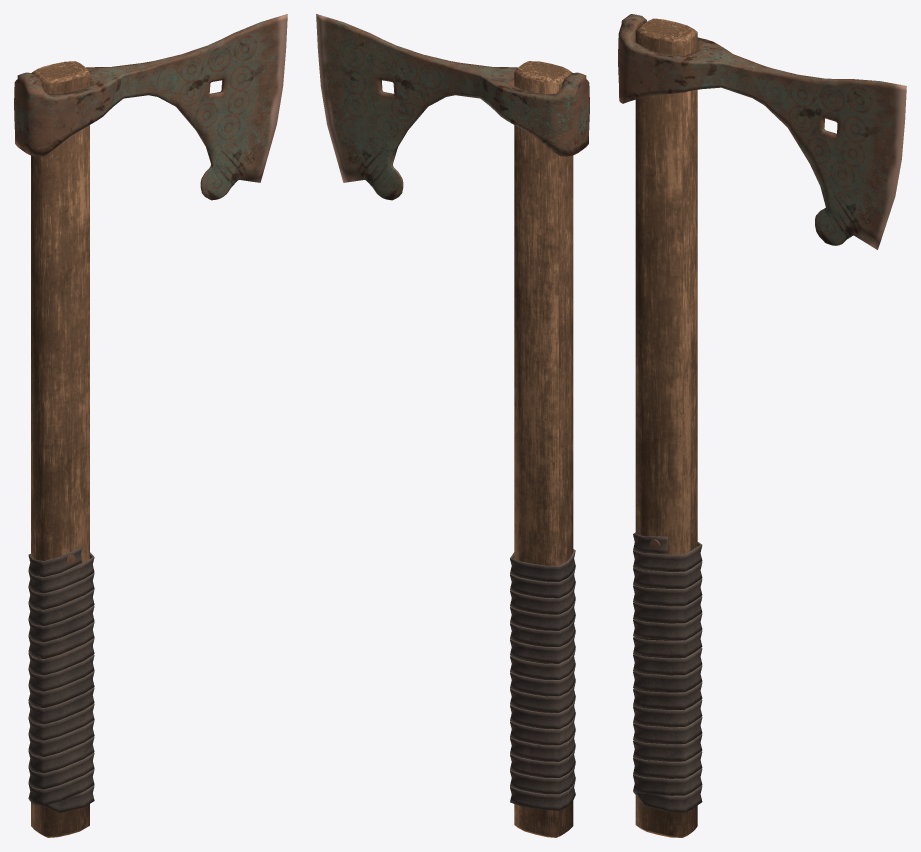
Rendered from axe.fbx.
The picture shows the model from 3 angles, left to right: view 1: azimuth 30°, elevation 25°; view 2: azimuth 150°, elevation 25°; view 3: azimuth 330°, elevation 25°; orthographic projection. The views are drawn at different scales.
Visible parts, largest first — view 1: handle.002; view 2: handle.002; view 3: handle.002.
Part boxes in pixels (left/top/right/bottom): handle.002: left=14, top=14, right=287, bottom=837; handle.002: left=316, top=14, right=589, bottom=837; handle.002: left=618, top=14, right=906, bottom=837.
Size of the model in its own units: 19.41 by 52.84 by 3.5.
